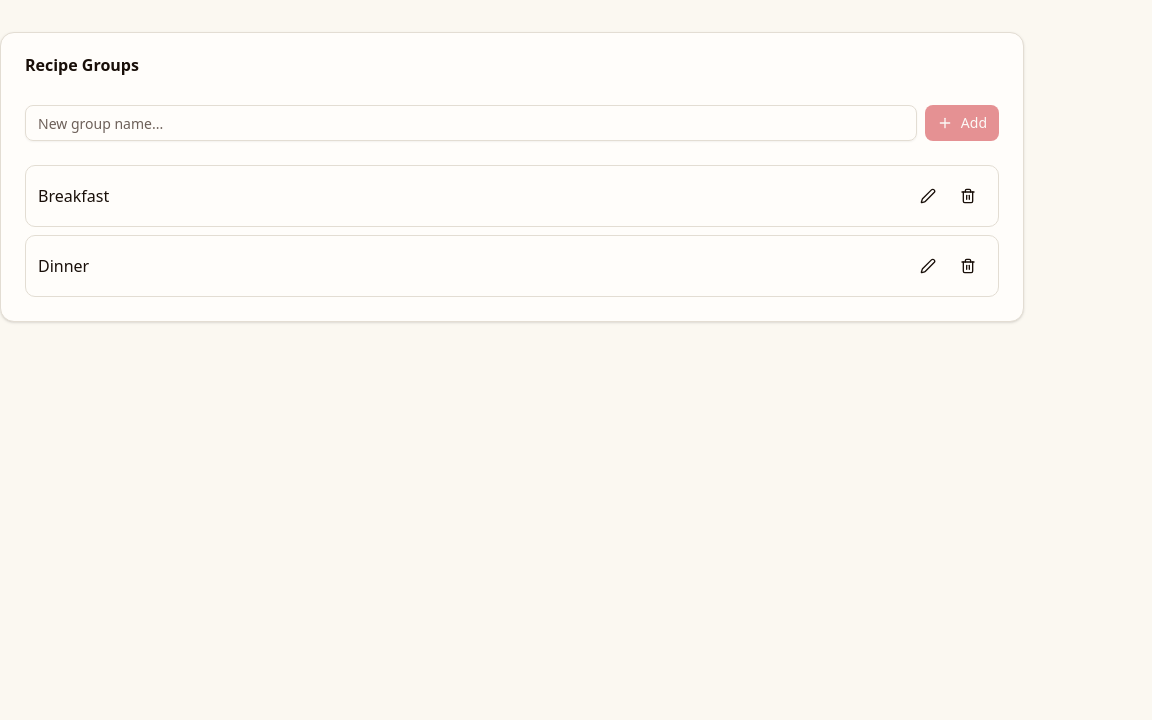
Groups › opens edit dialog when clicking edit button
Click the button named "Edit Breakfast".
click(928, 196)  # box [910, 178, 946, 214]
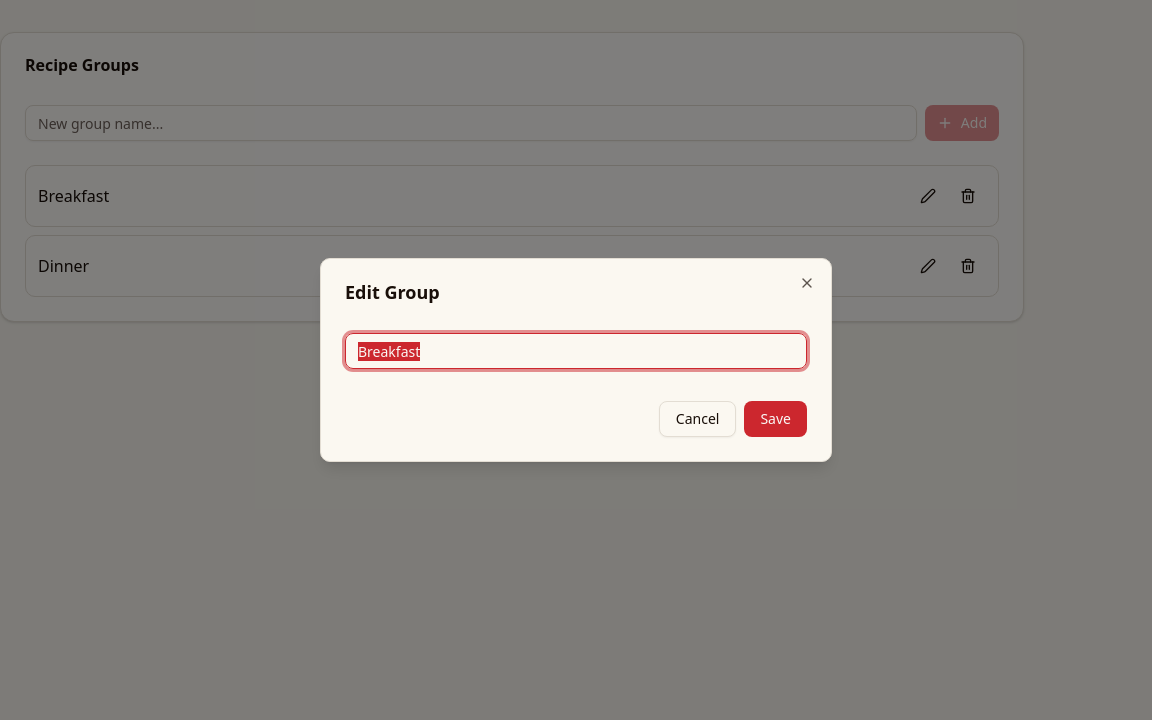
Now the heading "Edit Group" is shown, box [345, 280, 440, 304]
Now the field showing "Breakfast" is shown, box [345, 333, 807, 369]
